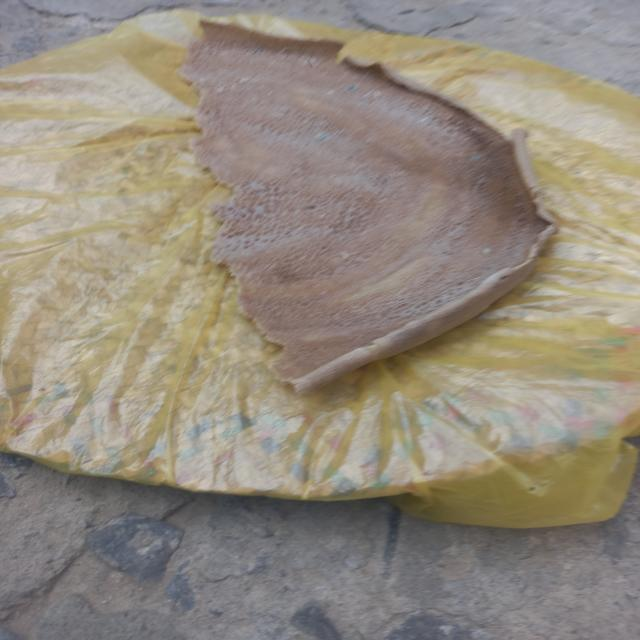injera_mold: (468, 154, 483, 161), (416, 116, 429, 124), (316, 133, 330, 140), (346, 84, 358, 91), (239, 76, 250, 83), (482, 247, 491, 253), (255, 49, 264, 55), (336, 129, 344, 135), (216, 87, 224, 93)
